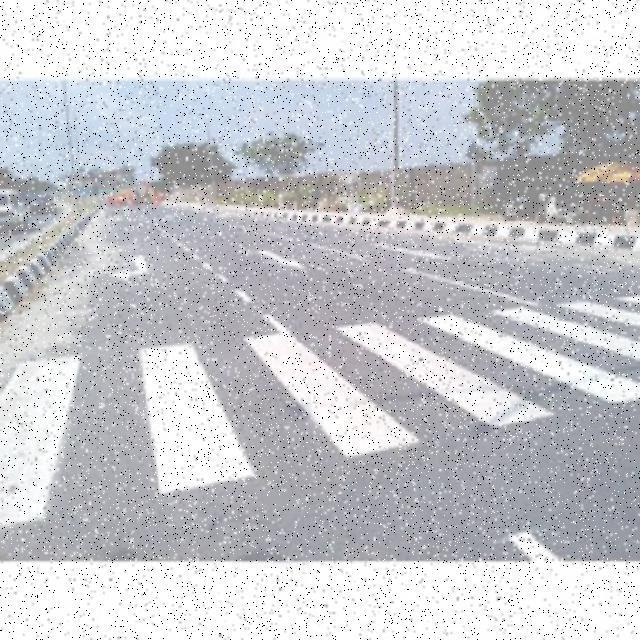Pedestrian crosswalk: (2, 283, 640, 538)
